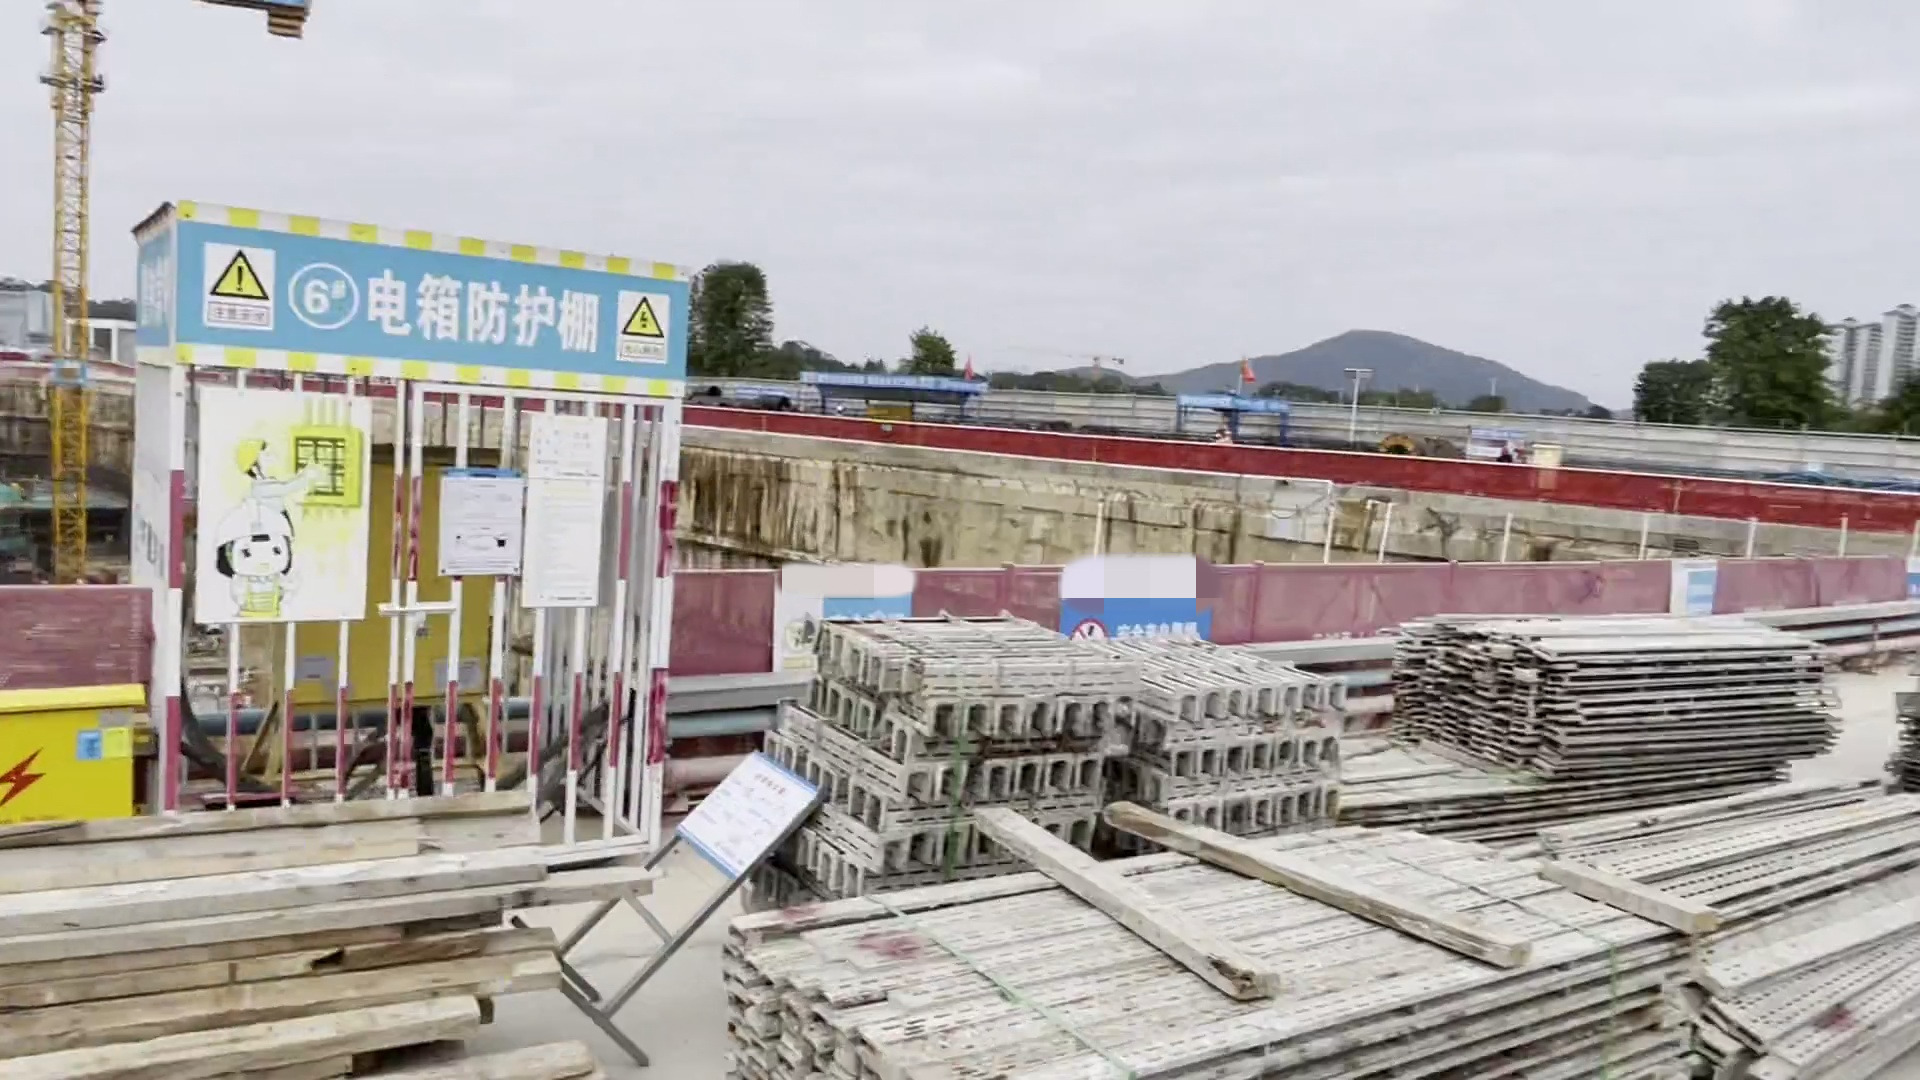ebox: (247, 439, 508, 810), (1, 679, 148, 829)
slogan: (1060, 568, 1211, 640), (199, 237, 276, 332), (612, 291, 673, 367)
wood: (1, 793, 655, 1080)
